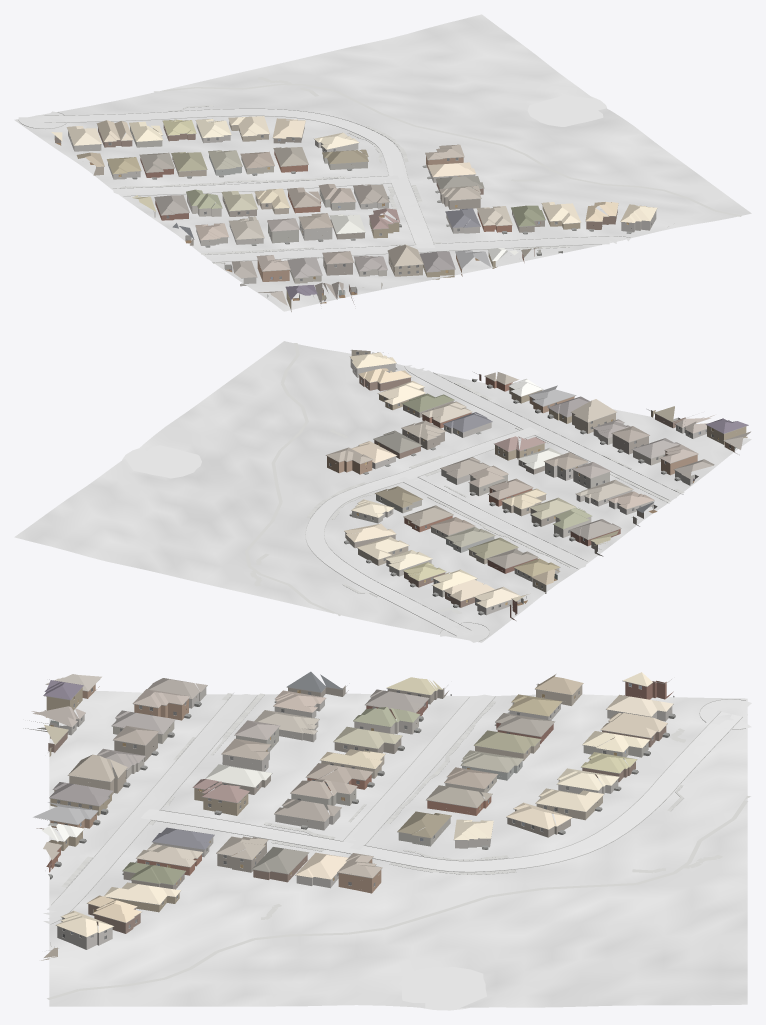
The picture shows the model from 3 angles, top to bottom: view 1: azimuth 30°, elevation 25°; view 2: azimuth 150°, elevation 25°; view 3: azimuth 270°, elevation 25°; orthographic projection. The views are drawn at different scales.
Visible parts, largest first — view 1: ground, roof, concrete, wall, walk, wall_stone, wall_stucco, curb, detail, water; view 2: ground, roof, concrete, wall, detail, walk, wall_stone, wall_stucco, curb, water, glass; view 3: ground, roof, concrete, wall, walk, detail, wall_stone, wall_stucco, water, curb, glass.
Part boxes in pixels (box(x1,y1,x2,y2)): ground: box(14, 14, 751, 311); roof: box(51, 116, 657, 305); concrete: box(18, 109, 630, 261); wall: box(98, 121, 617, 311); walk: box(86, 77, 741, 263); wall_stone: box(68, 123, 656, 303); wall_stucco: box(93, 126, 386, 283); curb: box(18, 106, 630, 263); detail: box(61, 120, 674, 303); water: box(527, 95, 606, 126); ground: box(14, 341, 751, 642); roof: box(326, 352, 750, 607); concrete: box(305, 365, 678, 642); wall: box(327, 349, 747, 620); detail: box(326, 350, 748, 615); walk: box(244, 343, 684, 615); wall_stone: box(350, 358, 706, 615); wall_stucco: box(376, 423, 664, 597); curb: box(305, 366, 683, 641); water: box(122, 445, 201, 478); glass: box(329, 352, 730, 609); ground: box(49, 691, 747, 1008); roof: box(31, 671, 673, 937); concrete: box(43, 694, 751, 923); wall: box(36, 680, 673, 960); walk: box(47, 693, 750, 999); detail: box(29, 679, 675, 950); wall_stone: box(23, 687, 672, 949); wall_stucco: box(112, 683, 648, 846); water: box(402, 967, 486, 1010); curb: box(50, 693, 745, 924); glass: box(54, 688, 653, 939).
Size of the model in its own units: 257 by 18.86 by 264.
